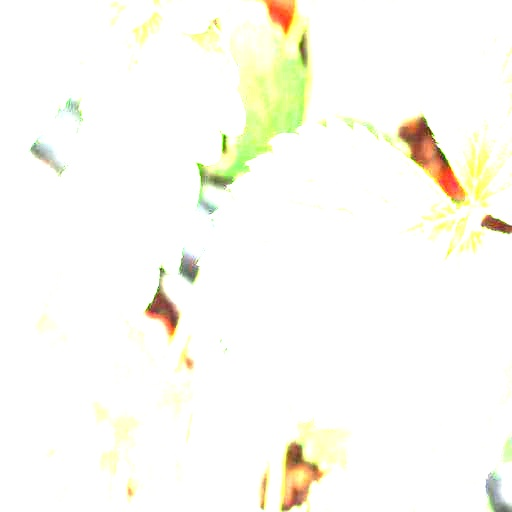Powdery Mildew Leaf: (196, 118, 463, 428), (53, 12, 246, 339)
